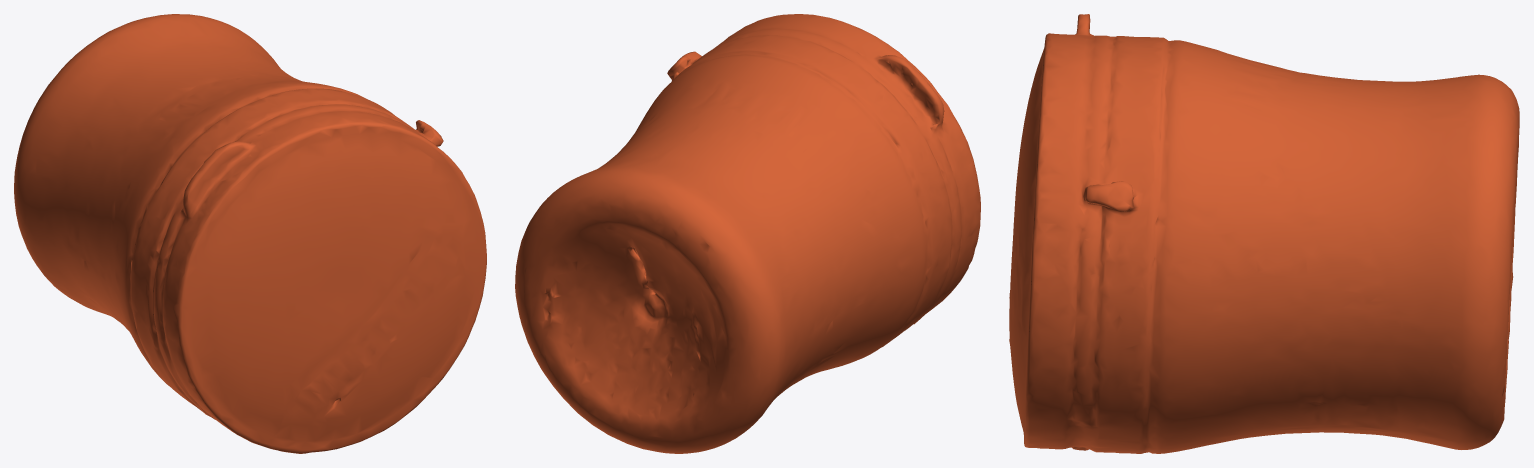
3 renders of one model, left to right at view 1: azimuth 30°, elevation 25°; view 2: azimuth 150°, elevation 25°; view 3: azimuth 270°, elevation 25°, orthographic. The views are drawn at different scales.
Size of the model in its own units: 0.0652 by 0.0653 by 0.0793.
